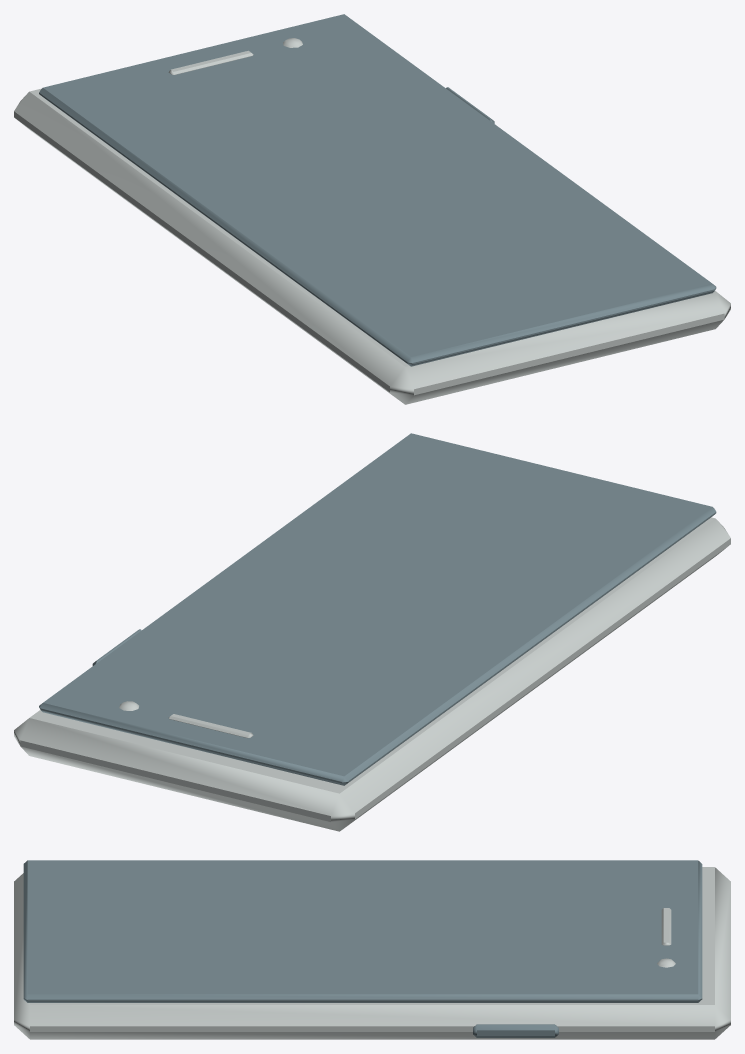
The model's file is smartphone.glb.
3 renders of one model, top to bottom at view 1: azimuth 30°, elevation 25°; view 2: azimuth 150°, elevation 25°; view 3: azimuth 270°, elevation 25°, orthographic. The views are drawn at different scales.
Parts seen in each view (by area): view 1: glass_screen, device_body; view 2: glass_screen, device_body; view 3: glass_screen, device_body, power_key, earpiece.
Boxes of the visible parts, bbox=[...] form: glass_screen: bbox=[39, 14, 716, 366]; device_body: bbox=[14, 88, 730, 404]; glass_screen: bbox=[39, 433, 716, 785]; device_body: bbox=[14, 517, 730, 831]; glass_screen: bbox=[23, 860, 702, 1002]; device_body: bbox=[14, 867, 730, 1039]; power_key: bbox=[473, 1024, 558, 1037]; earpiece: bbox=[661, 908, 671, 945].
Size of the model in its own units: 0.077 by 0.0108 by 0.15.
